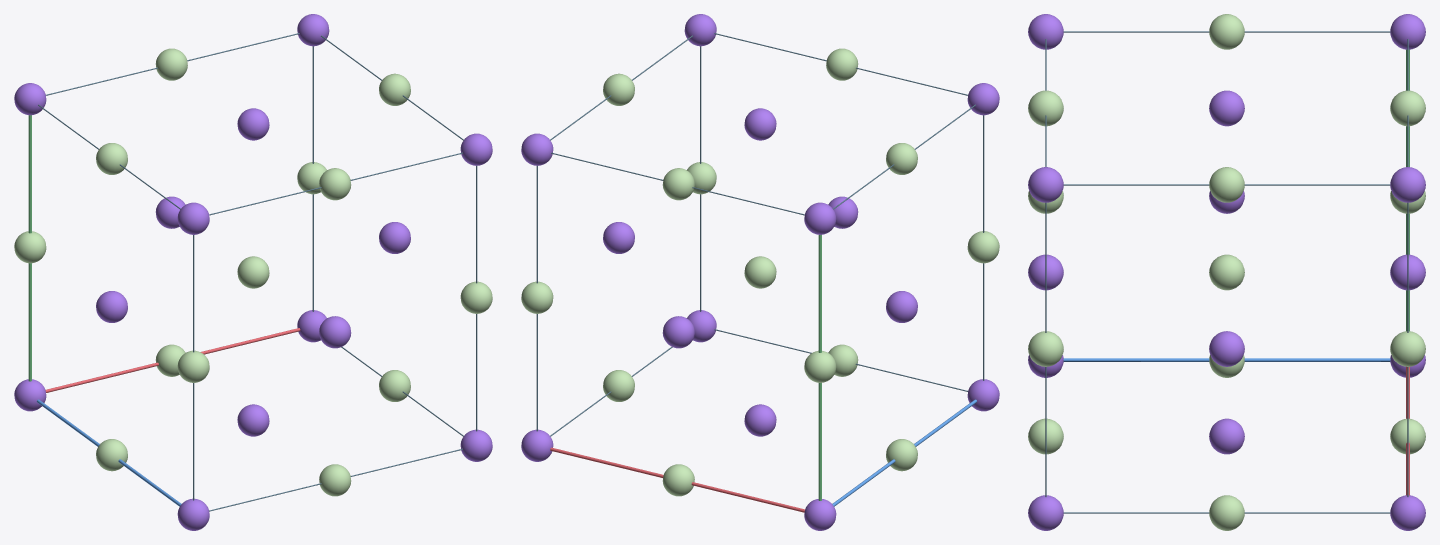
Rendered from chat-sodium-iodide.glb.
3 views of the same model, side by side, from view 1: azimuth 30°, elevation 25°; view 2: azimuth 150°, elevation 25°; view 3: azimuth 270°, elevation 25° (orthographic). The views are drawn at different scales.
Visible parts, largest first — view 1: Na · Na · 1 (×14), I · I · 1 (×13), Ô mạng và các trục a, b, c; view 2: Na · Na · 1 (×14), I · I · 1 (×13), Ô mạng và các trục a, b, c; view 3: Na · Na · 1 (×11), I · I · 1 (×10), Ô mạng và các trục a, b, c.
Boxes of the visible parts, <box> form: Na · Na · 1 (×14): <box>14,14,492,530</box>; I · I · 1 (×13): <box>14,48,492,496</box>; Ô mạng và các trục a, b, c: <box>28,33,477,511</box>; Na · Na · 1 (×14): <box>521,14,999,530</box>; I · I · 1 (×13): <box>521,48,999,496</box>; Ô mạng và các trục a, b, c: <box>536,33,984,512</box>; Na · Na · 1 (×11): <box>1028,14,1425,530</box>; I · I · 1 (×10): <box>1028,14,1425,530</box>; Ô mạng và các trục a, b, c: <box>1045,31,1409,513</box>.
Size of the model in its own units: 7.11 by 7.11 by 7.11.
